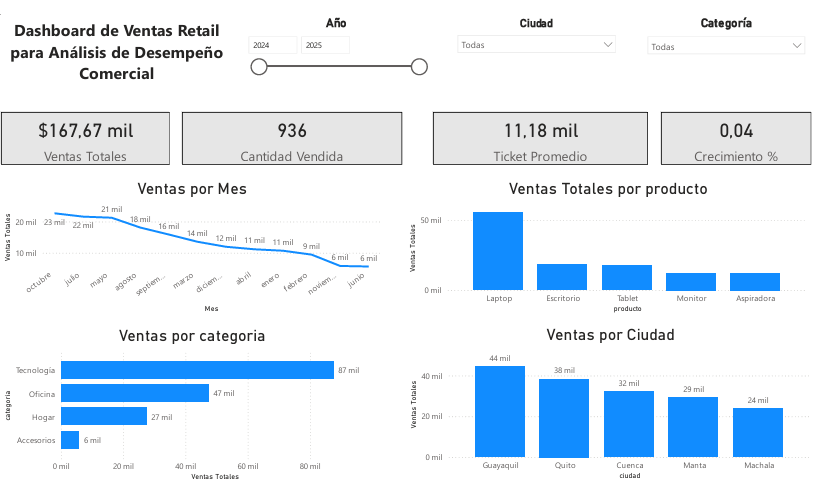

The dashboard page shown, as its layout file describes it:
{"tool":"powerbi","page":{"name":"D1","canvas":[1280,720],"ordinal":0},"visuals":[{"type":"lineChart","title":"Ventas por Mes","fields":{"Category":["Calendario.Mes"],"Y":["Calendario.Ventas Totales"]},"box":[32.2,276.6,1229.3,190.2],"z":0},{"type":"actionButton","box":[0,0,100,40],"z":1000},{"type":"barChart","title":"Ventas por categoria","fields":{"Category":["ventas.categoria"],"Y":["Calendario.Ventas Totales"]},"box":[32.2,481.5,544.4,238.5],"z":2000},{"type":"columnChart","title":"Ventas por Ciudad","fields":{"Category":["ventas.ciudad"],"Y":["Calendario.Ventas Totales"]},"box":[646.8,481.5,617.6,238.5],"z":3000},{"type":"card","title":"Ventas Totales","fields":{"Values":["Calendario.Ventas Totales"]},"box":[77.6,156.6,256.1,80.5],"z":4000},{"type":"card","title":"Unidades Vendidas","fields":{"Values":["Calendario.Cantidad Vendida"]},"box":[480,156.6,333.7,80.5],"z":5000},{"type":"card","title":"Tickets","fields":{"Values":["Calendario.Ticket Promedio"]},"box":[935.1,156.6,326.3,80.5],"z":6000},{"type":"slicer","title":"Año","fields":{"Values":["Calendario.Año"]},"box":[393.7,11.7,292.7,117.1],"z":7000},{"type":"slicer","title":"Ciudad","fields":{"Values":["ventas.ciudad"]},"box":[714.1,11.7,260.5,112.7],"z":8000},{"type":"slicer","title":"Categoría","fields":{"Values":["ventas.categoria"]},"box":[1002.4,11.7,259,112.7],"z":9000},{"type":"textbox","box":[32.2,11.7,351.2,117.1],"z":9001}]}

Visuals, with their boxes on the page's 1280x720 design canvas (x1, y1, x2, y2). These are canvas units, not pixel positions in the 827x486 screenshot, which may show the page scaled, cropped or inside an application window:
"Ventas por Mes" lineChart: bbox=(32, 277, 1262, 467)
actionButton: bbox=(0, 0, 100, 40)
"Ventas por categoria" barChart: bbox=(32, 482, 577, 720)
"Ventas por Ciudad" columnChart: bbox=(647, 482, 1264, 720)
"Ventas Totales" card: bbox=(78, 157, 334, 237)
"Unidades Vendidas" card: bbox=(480, 157, 814, 237)
"Tickets" card: bbox=(935, 157, 1261, 237)
"Año" slicer: bbox=(394, 12, 686, 129)
"Ciudad" slicer: bbox=(714, 12, 975, 124)
"Categoría" slicer: bbox=(1002, 12, 1261, 124)
textbox: bbox=(32, 12, 383, 129)
